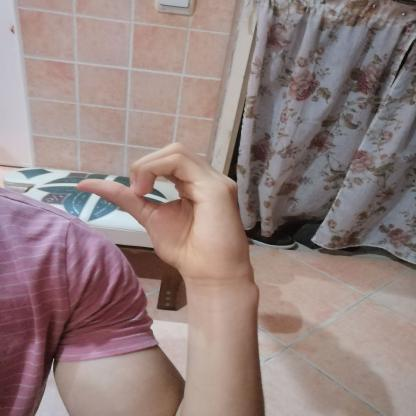WAW: (63, 131, 268, 292)
